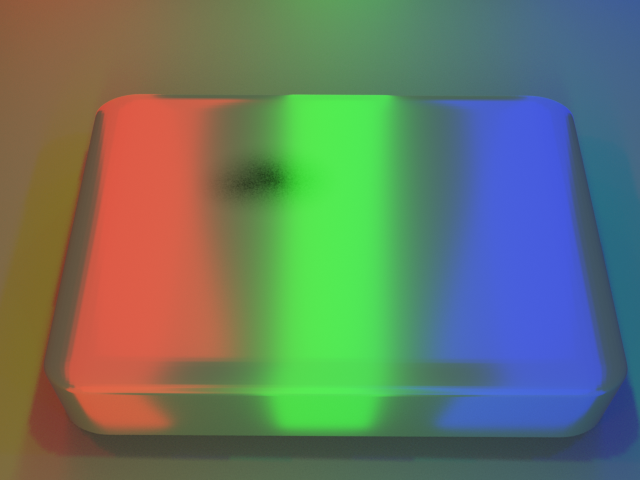stain: (146, 115, 356, 228)
